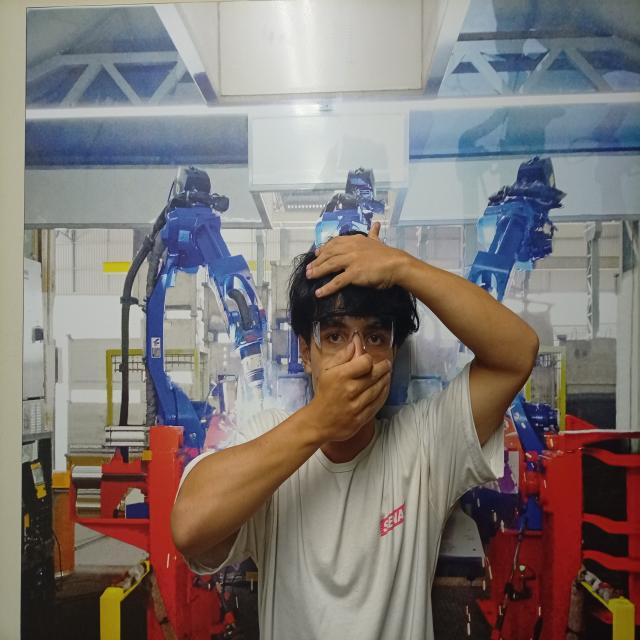oculos-epi: (311, 313, 395, 355)
